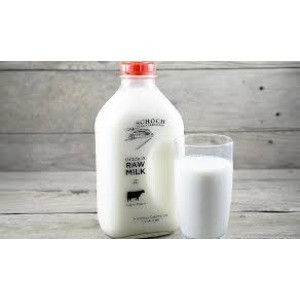milk_brain food: (87, 89, 168, 231), (174, 142, 241, 232)
